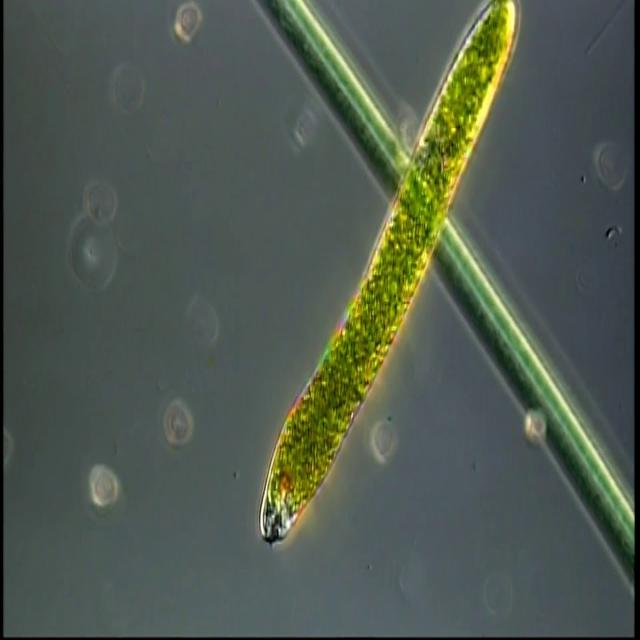Euglena: (257, 0, 521, 547)
